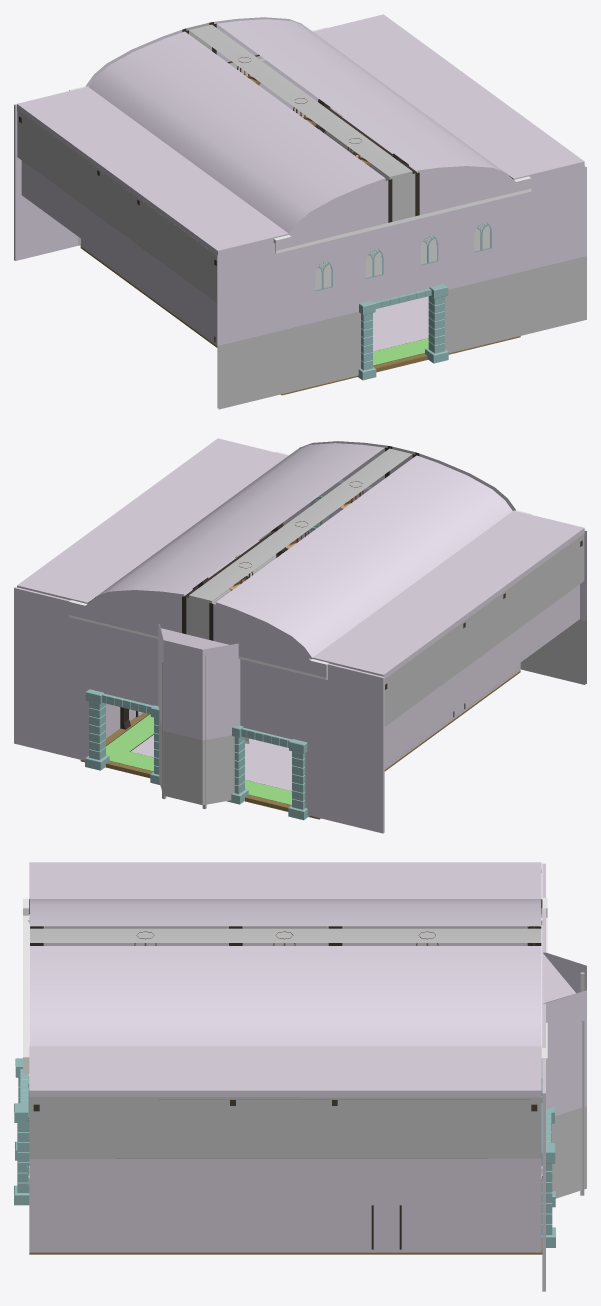
The model's file is LibraryScene.fbx.
3 views of the same model, one above another, from view 1: azimuth 30°, elevation 25°; view 2: azimuth 150°, elevation 25°; view 3: azimuth 270°, elevation 25° (orthographic). The views are drawn at different scales.
Visible parts, largest first — view 1: Cube.015, Plane.004, Cube.004, Plane.001, Plane, Plane.005, SqPiller, SqPiller.001, Cube.003; view 2: Cube.015, Plane.005, Cube.004, Plane.001, Plane, Plane.004, SqPiller.004, SqPiller.006, SqPiller.008, Cube.003; view 3: Plane.001, Cube.015, Cube.004, Plane.005, Cube.003, Plane, SqPiller, SqPiller.004.
Boxes of the visible parts, bbox=[...] form: Cube.015: bbox=[69, 17, 531, 253]; Plane.004: bbox=[217, 166, 586, 409]; Cube.004: bbox=[17, 14, 584, 255]; Plane.001: bbox=[17, 111, 416, 345]; Plane: bbox=[80, 244, 520, 395]; Plane.005: bbox=[14, 60, 342, 260]; SqPiller: bbox=[428, 296, 444, 353]; SqPiller.001: bbox=[361, 313, 372, 370]; Cube.003: bbox=[17, 109, 217, 257]; Cube.015: bbox=[69, 441, 531, 679]; Plane.005: bbox=[14, 587, 384, 833]; Cube.004: bbox=[17, 438, 584, 678]; Plane.001: bbox=[105, 536, 584, 769]; Plane: bbox=[80, 669, 520, 819]; Plane.004: bbox=[258, 482, 586, 684]; SqPiller.004: bbox=[89, 702, 105, 759]; SqPiller.006: bbox=[292, 751, 305, 809]; SqPiller.008: bbox=[234, 736, 244, 794]; Cube.003: bbox=[384, 533, 584, 680]; Plane.001: bbox=[29, 926, 541, 1252]; Cube.015: bbox=[23, 898, 547, 1077]; Cube.004: bbox=[29, 862, 541, 1097]; Plane.005: bbox=[542, 863, 586, 1291]; Cube.003: bbox=[29, 869, 541, 1158]; Plane: bbox=[29, 1244, 542, 1254]; SqPiller: bbox=[17, 1123, 29, 1192]; SqPiller.004: bbox=[541, 1163, 552, 1234].
Bounding box in the file's own units: 7021 × 3518 × 7402.
